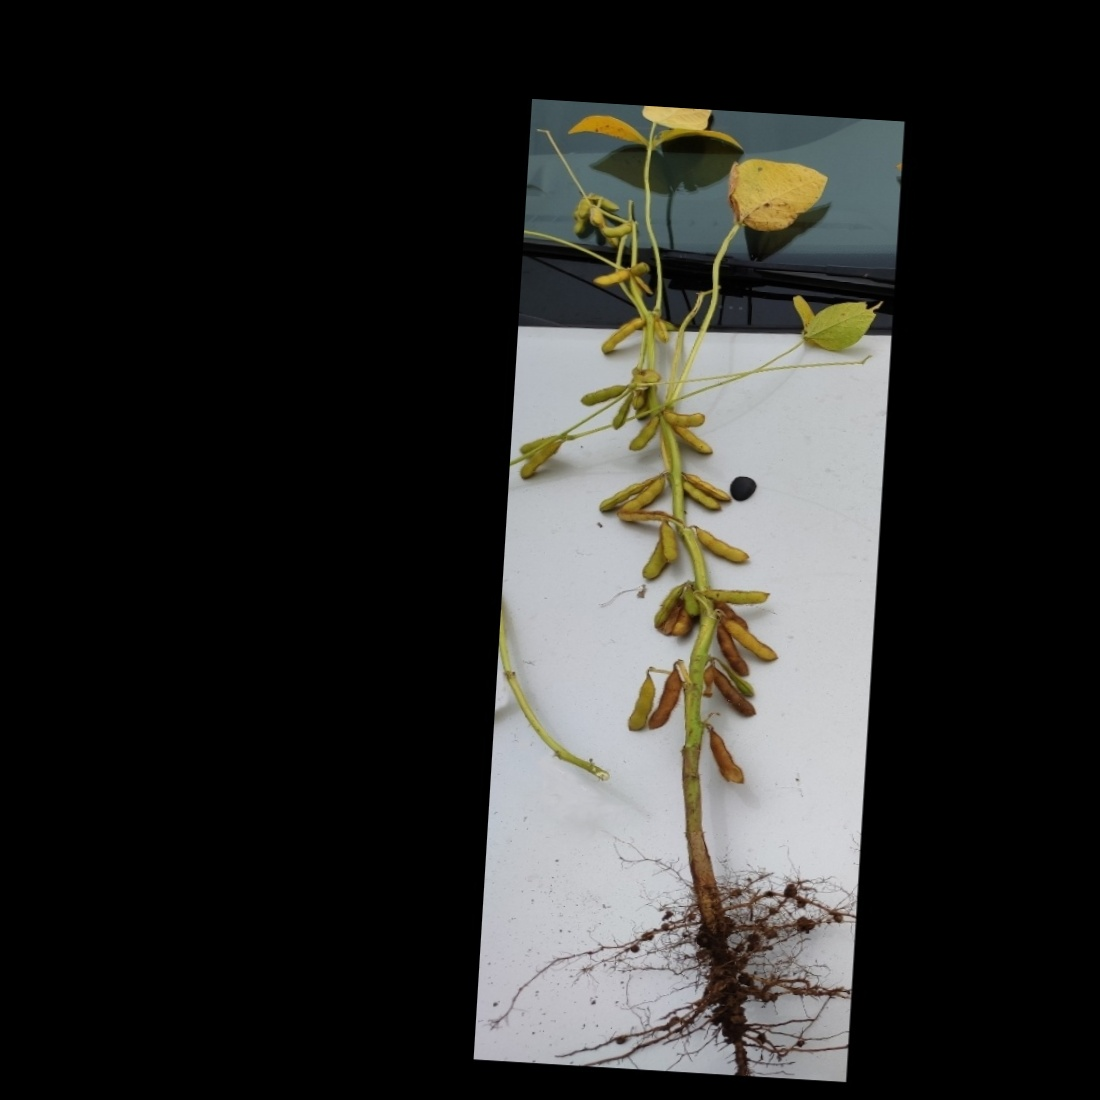pod: (696, 721, 751, 790), (697, 660, 759, 719), (642, 658, 688, 736), (591, 470, 663, 516), (621, 662, 660, 737), (723, 615, 781, 663), (518, 435, 571, 484), (711, 625, 754, 681), (697, 527, 753, 568), (618, 470, 666, 518), (676, 469, 739, 503), (698, 582, 777, 608), (601, 311, 646, 356), (673, 478, 725, 514), (674, 419, 717, 460), (622, 409, 661, 454), (652, 513, 684, 564), (576, 379, 628, 410), (660, 405, 711, 430), (588, 267, 633, 290), (597, 220, 633, 238)
soy: (490, 128, 886, 979)
